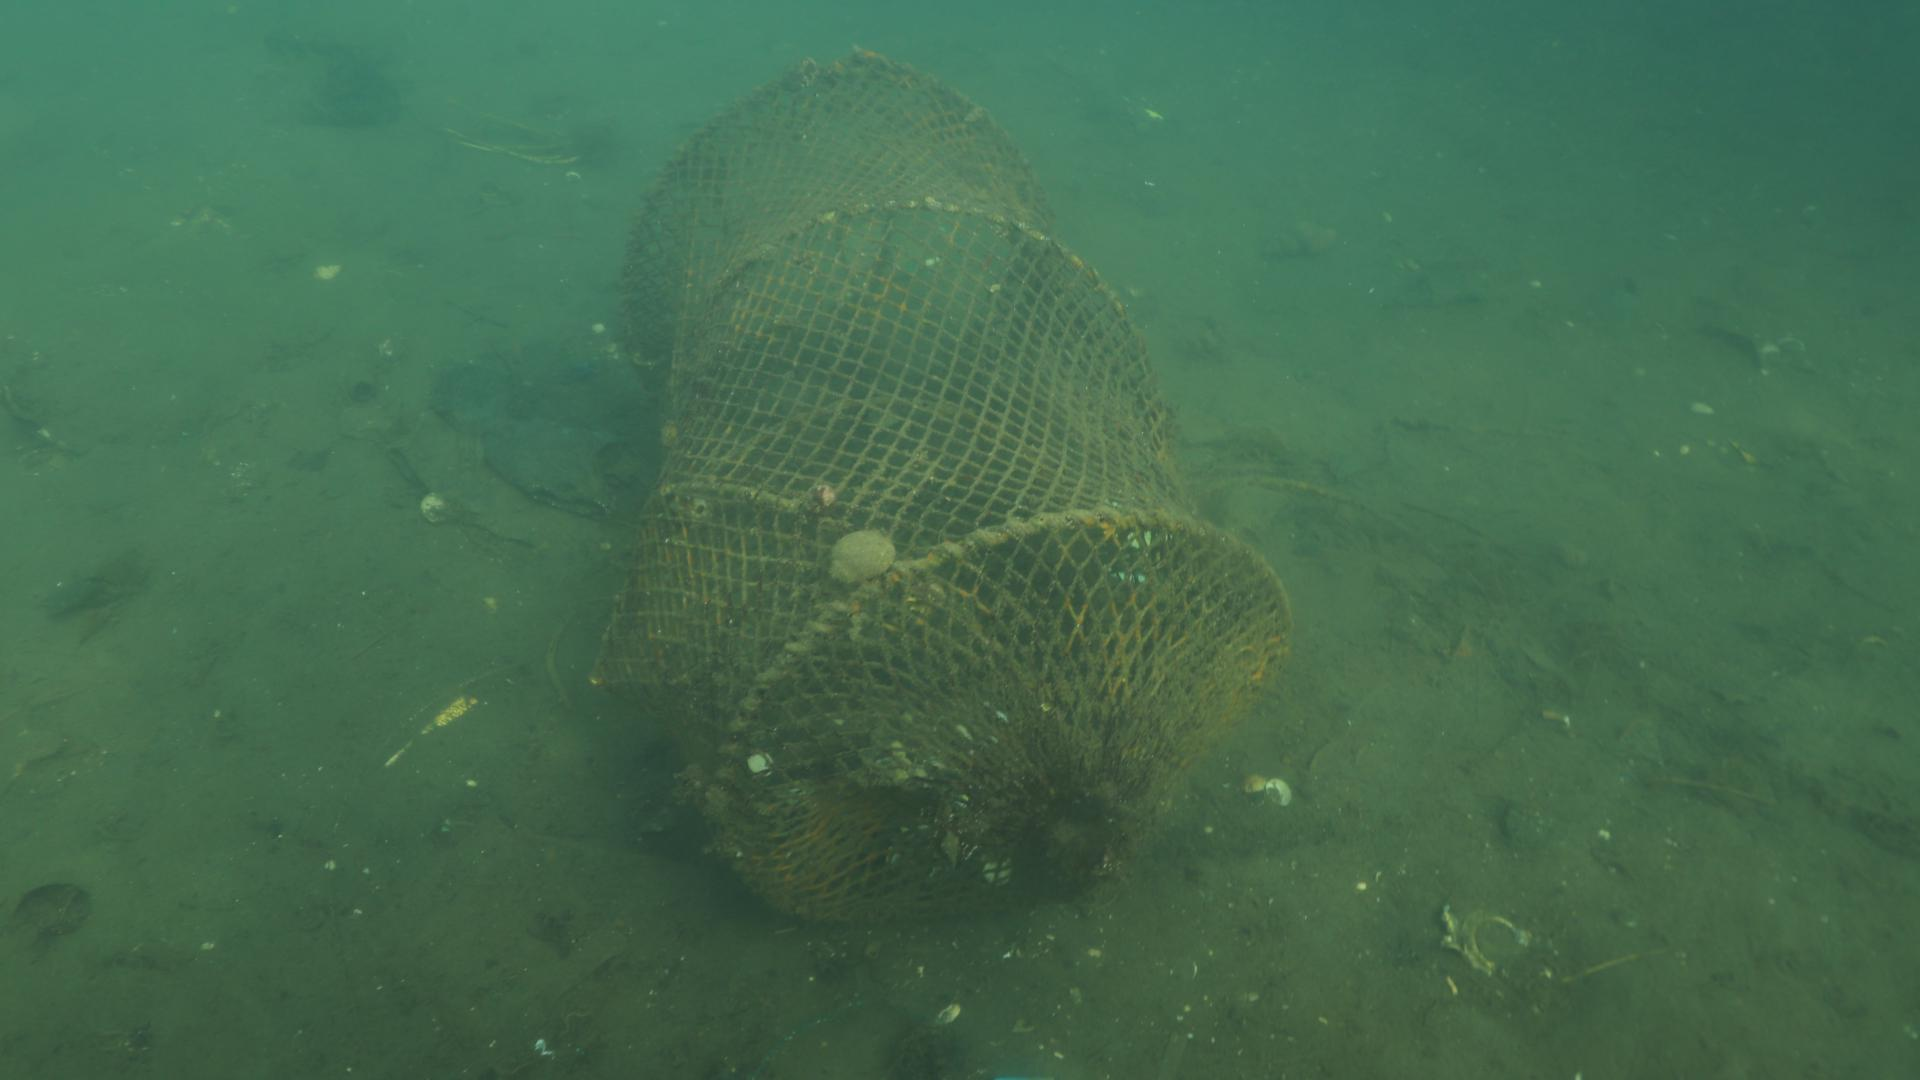spring fish trap: (589, 42, 1294, 927)
